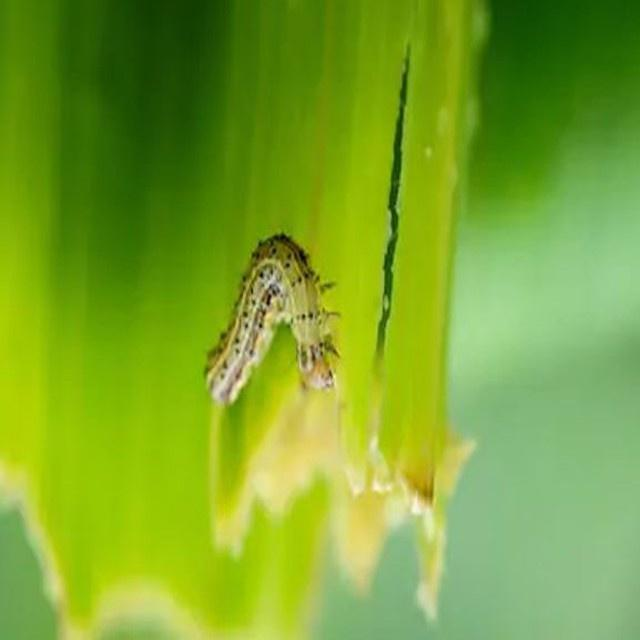Plaga: (210, 235, 335, 398)
